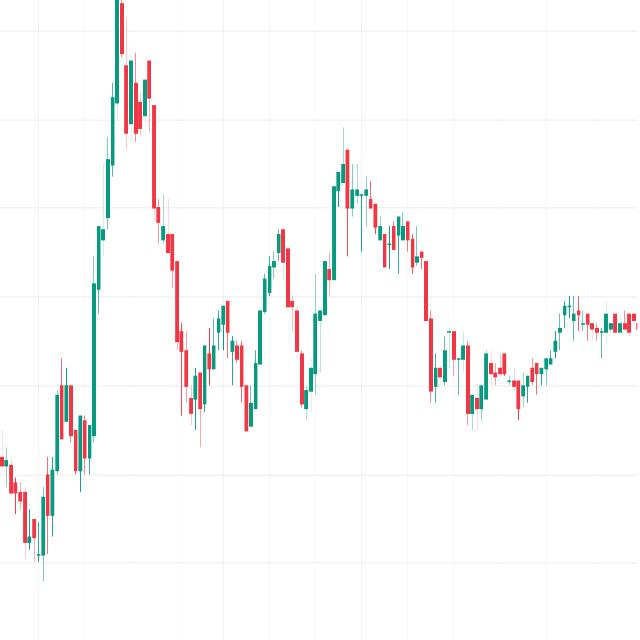Triple-Bottom: (162, 218, 347, 444)
